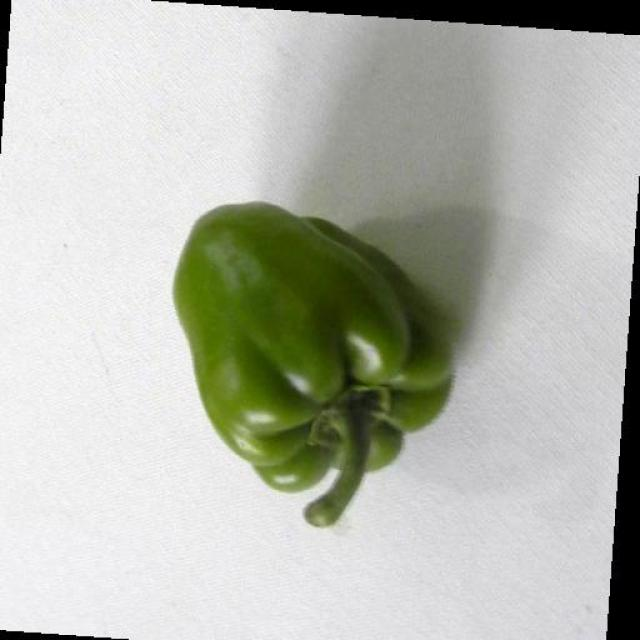Fresh_Capsicum: (163, 196, 478, 551)
